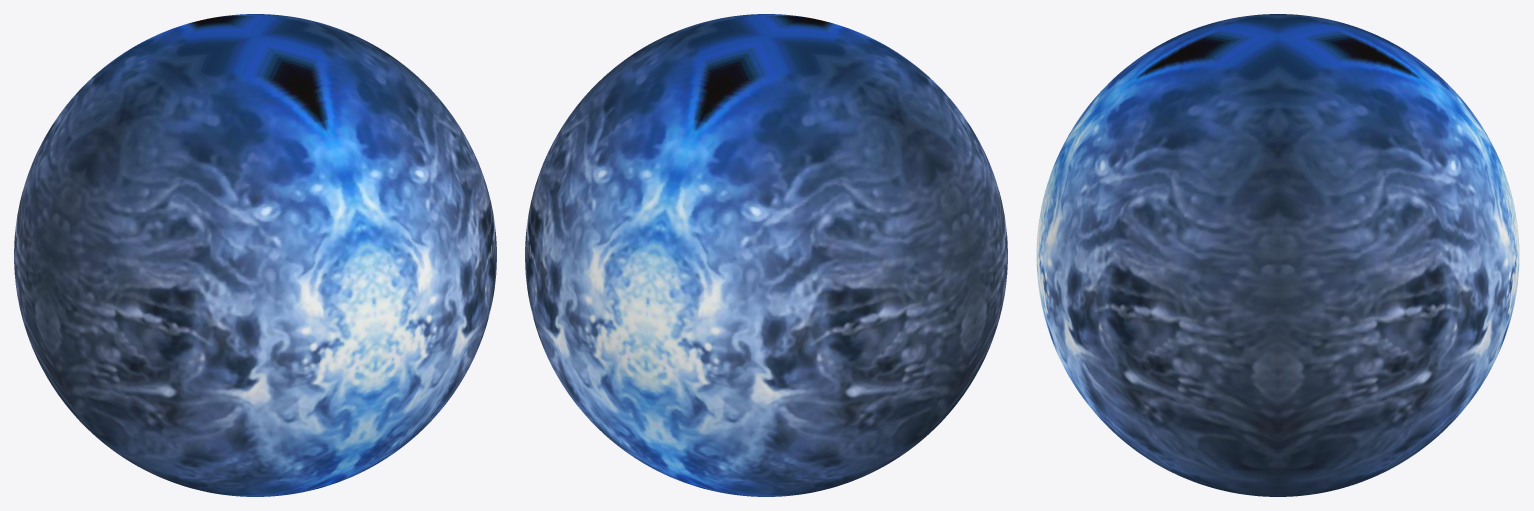
The picture shows the model from 3 angles, left to right: view 1: azimuth 30°, elevation 25°; view 2: azimuth 150°, elevation 25°; view 3: azimuth 270°, elevation 25°; orthographic projection.
Visible parts, largest first — view 1: HD_189733_b; view 2: HD_189733_b; view 3: HD_189733_b.
Part boxes in pixels (bbox=[...]): HD_189733_b: bbox=[14, 14, 496, 496]; HD_189733_b: bbox=[525, 14, 1007, 496]; HD_189733_b: bbox=[1036, 14, 1519, 496].
Bounding box in the file's own units: 2 × 2 × 2.
Materials: 1 (1 with a texture image).
